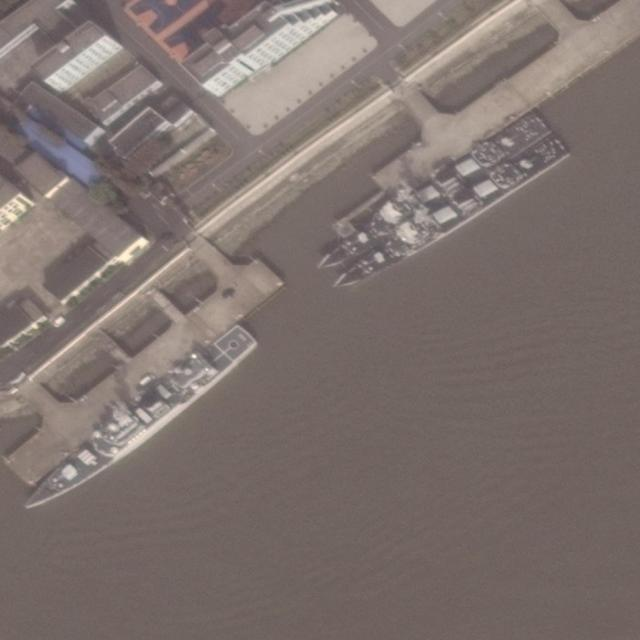Auxiliary Ships: (18, 323, 259, 524)
Frigate: (330, 127, 570, 304), (311, 107, 546, 279)
